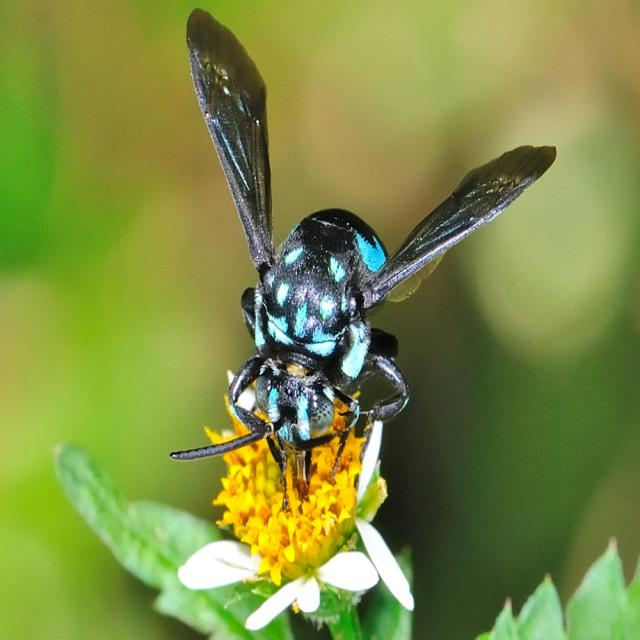Thyreus: (180, 4, 560, 500)
